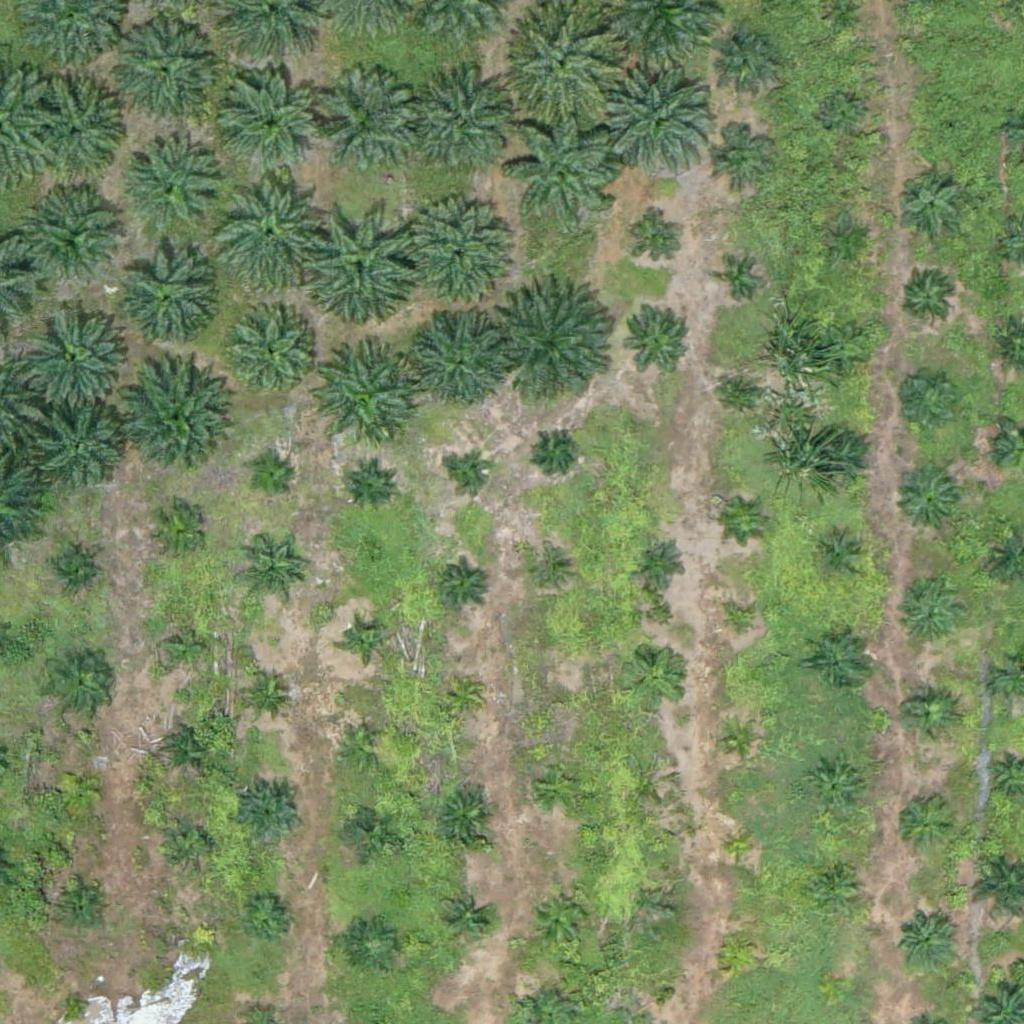Kelapa_Sawit: (300, 203, 425, 329), (208, 169, 333, 295), (496, 284, 621, 409), (117, 365, 230, 479), (508, 111, 621, 224), (397, 197, 510, 310), (18, 295, 130, 409), (605, 71, 717, 184), (509, 6, 621, 119), (306, 347, 418, 460), (407, 308, 507, 409), (413, 73, 513, 174), (312, 72, 412, 173), (222, 75, 322, 176), (221, 302, 321, 403), (110, 22, 210, 123), (122, 138, 222, 239), (24, 71, 124, 172), (114, 247, 214, 347), (27, 186, 127, 286), (36, 406, 124, 494), (888, 364, 963, 440), (620, 300, 695, 375), (892, 792, 955, 855), (897, 585, 960, 648), (895, 909, 958, 972), (238, 545, 301, 608), (144, 499, 207, 562), (810, 628, 873, 691), (240, 781, 303, 844), (806, 758, 869, 821), (811, 428, 874, 491), (707, 127, 770, 190), (717, 29, 780, 92), (155, 616, 218, 679), (896, 469, 958, 532), (48, 654, 110, 717), (435, 785, 497, 848), (529, 886, 591, 949), (897, 171, 959, 234), (625, 646, 687, 709), (347, 920, 397, 971), (815, 532, 865, 583), (345, 802, 395, 853), (165, 724, 215, 775), (634, 217, 684, 268), (822, 326, 872, 377), (241, 667, 291, 718), (166, 818, 216, 869), (45, 545, 95, 596), (54, 764, 104, 815), (242, 891, 292, 942), (440, 891, 490, 942), (904, 691, 954, 741), (345, 460, 395, 510), (439, 558, 489, 608), (809, 859, 859, 909), (904, 273, 954, 323), (635, 537, 685, 587), (535, 762, 585, 812), (338, 722, 388, 772), (246, 455, 296, 505), (60, 885, 110, 935), (729, 502, 767, 540), (536, 430, 574, 468), (822, 93, 860, 131), (829, 219, 867, 257), (722, 603, 760, 641), (720, 722, 758, 760), (722, 829, 760, 867), (718, 929, 756, 967), (444, 676, 482, 714), (347, 621, 385, 659), (453, 456, 490, 494), (530, 554, 567, 592), (542, 683, 579, 721), (625, 981, 662, 1019), (720, 264, 757, 301), (724, 374, 761, 411), (939, 119, 964, 144), (62, 992, 87, 1017)
